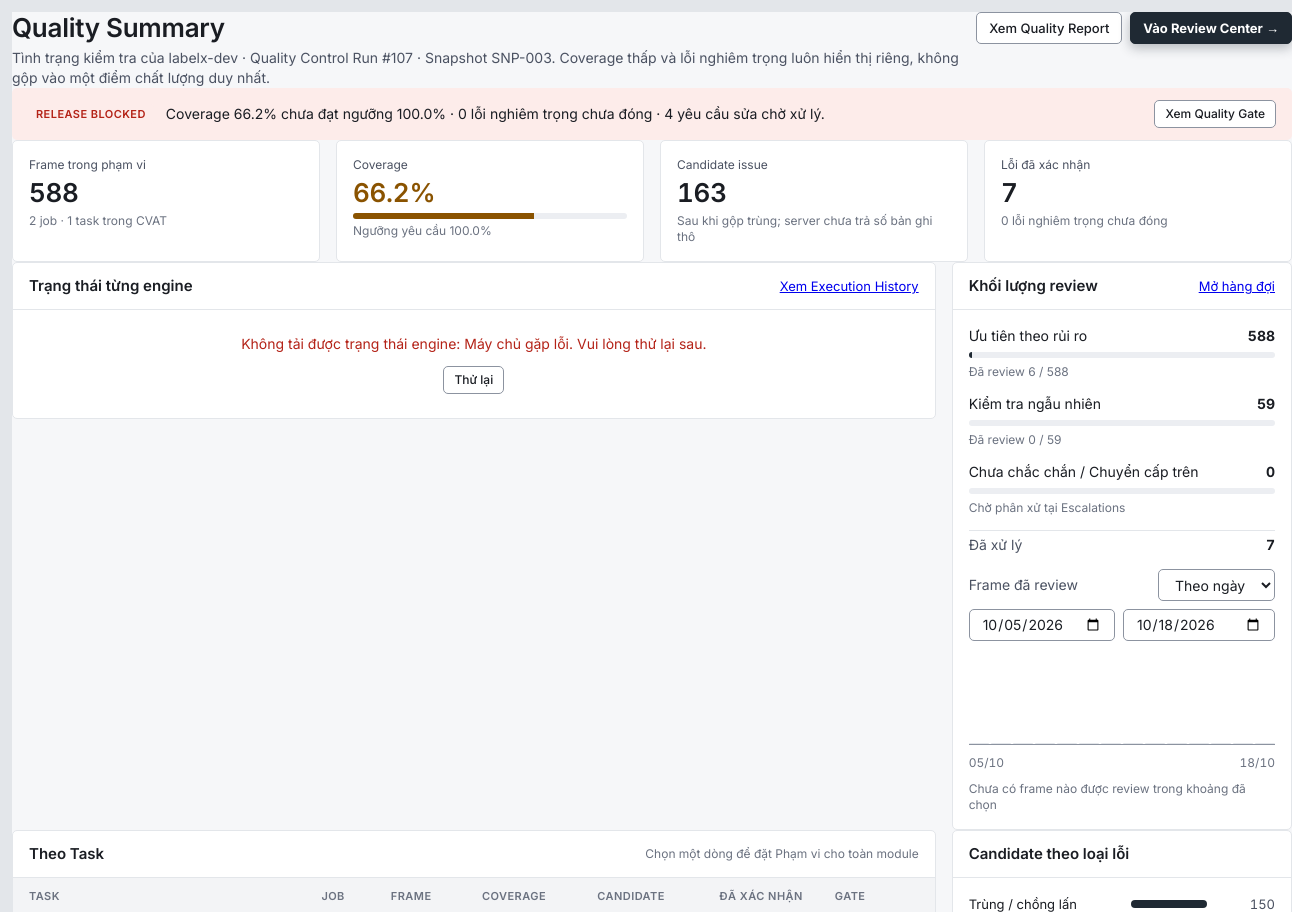
Test: Overview: Quality Control Home và Quality Summary dùng dữ liệu thật › Quality Summary › lỗi ledger hiện Thử lại và tải lại được
Expected: the text "Không tải được trạng thái engine" is shown, [241,335,456,352]
Click the button "Thử lại" at (474, 380), box [444,366,504,394]
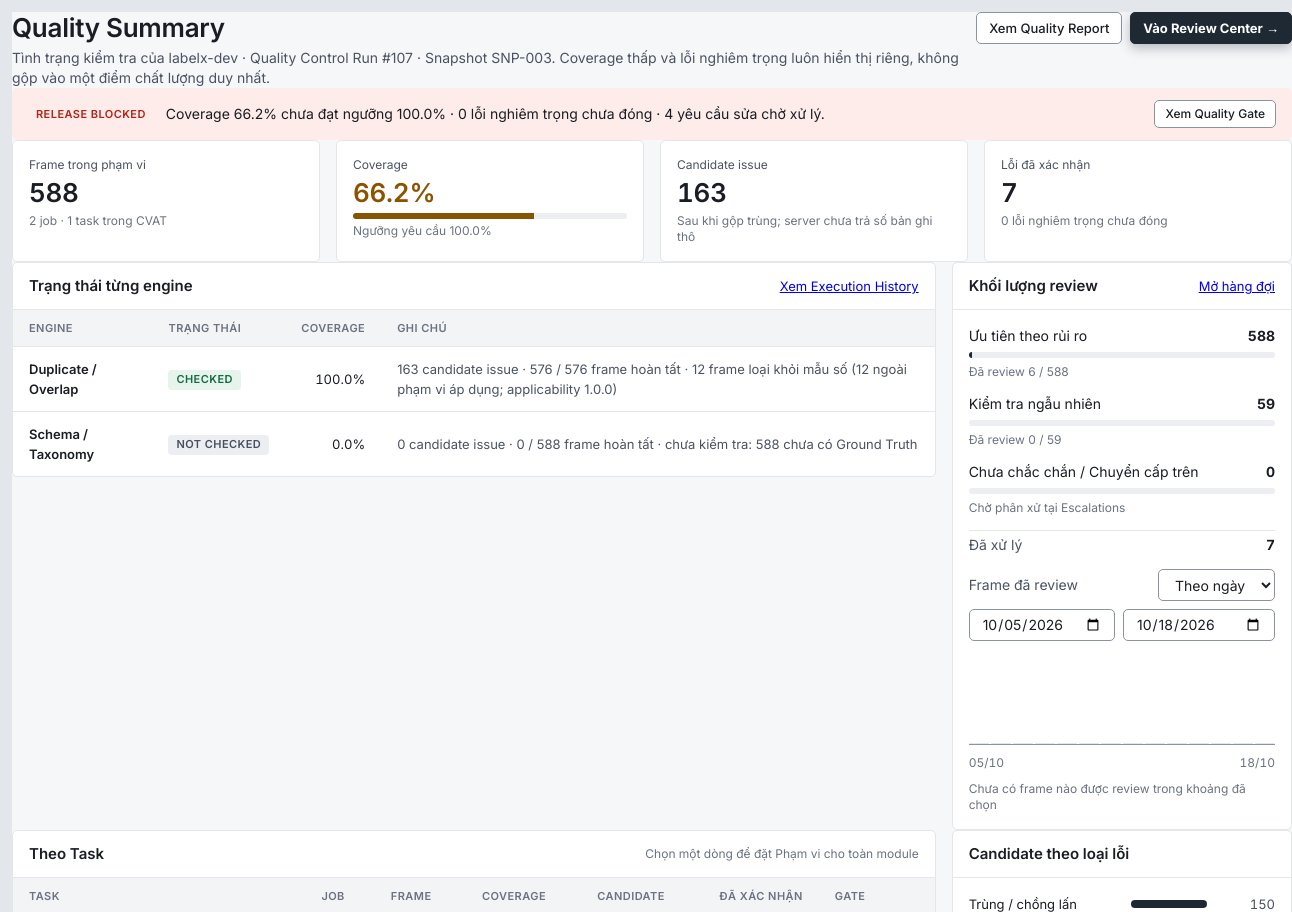
Now the text "Duplicate / Overlap" is shown, box [13,346,152,412]
